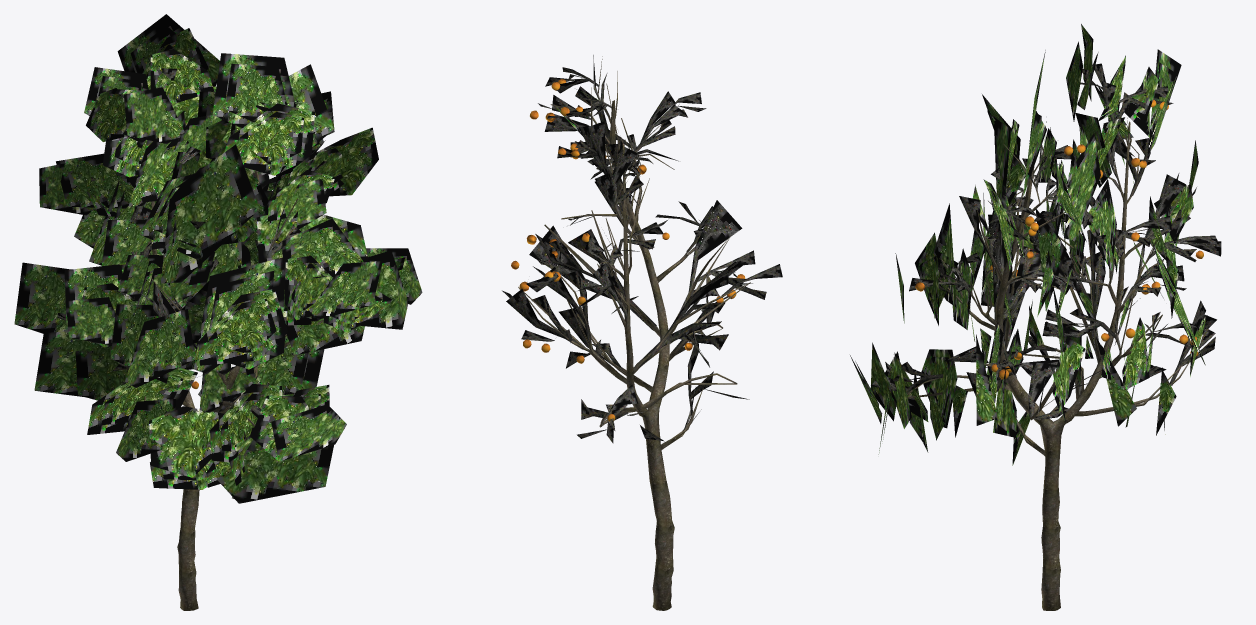
File: Orange_Low-transformed.glb
The picture shows the model from 3 angles, left to right: view 1: azimuth 30°, elevation 25°; view 2: azimuth 150°, elevation 25°; view 3: azimuth 270°, elevation 25°; orthographic projection. The views are drawn at different scales.
Parts seen in each view (by area): view 1: Orange_Low_LOD0; view 2: Orange_Low_LOD0; view 3: Orange_Low_LOD0.
Part boxes in pixels (left/top/right/bottom): Orange_Low_LOD0: left=14, top=14, right=422, bottom=610; Orange_Low_LOD0: left=502, top=55, right=782, bottom=610; Orange_Low_LOD0: left=850, top=24, right=1221, bottom=610.
Bounding box in the file's own units: 3.34 × 5.08 × 3.15.
2 materials, 2 textured.
